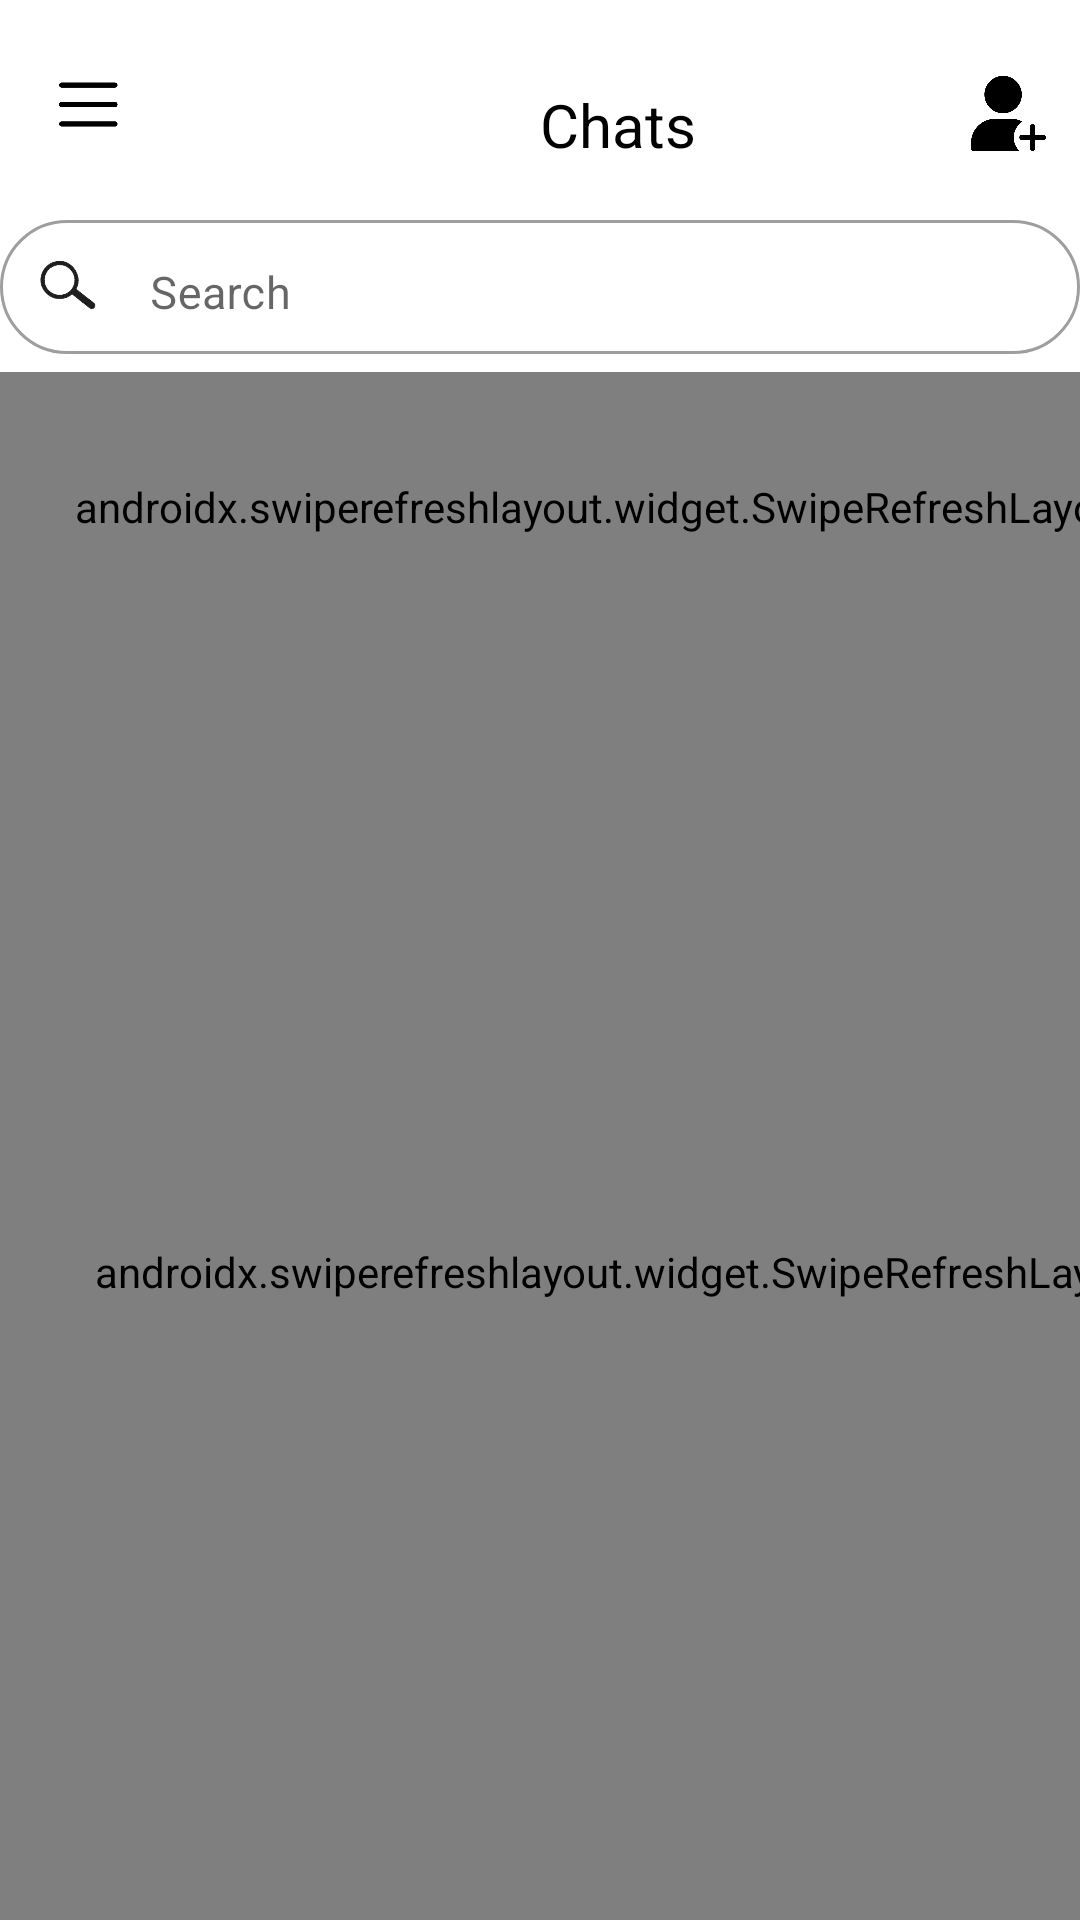

Where icons sit on this 1080 × 1920 app screen, as (x1, y1, x2, y2):
add contacs: (971, 76, 1046, 151)
three lines menu: (59, 82, 118, 127)
